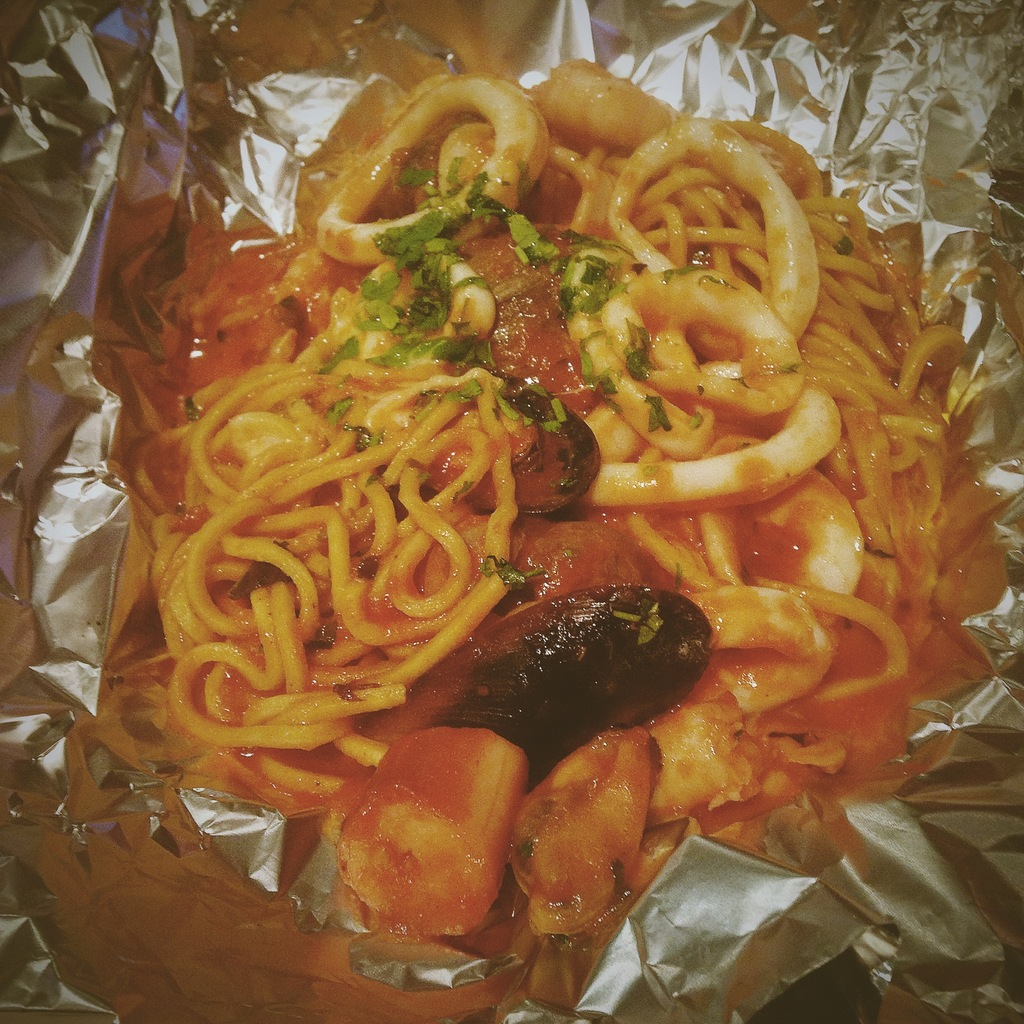pasta: (45, 32, 1016, 1013)
